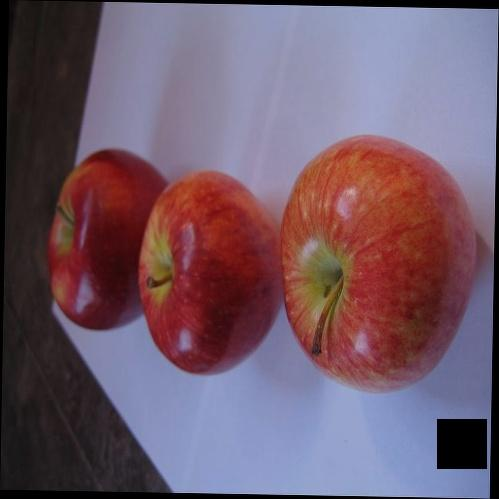red apple: (279, 135, 480, 394), (137, 162, 285, 375), (41, 144, 170, 334)
